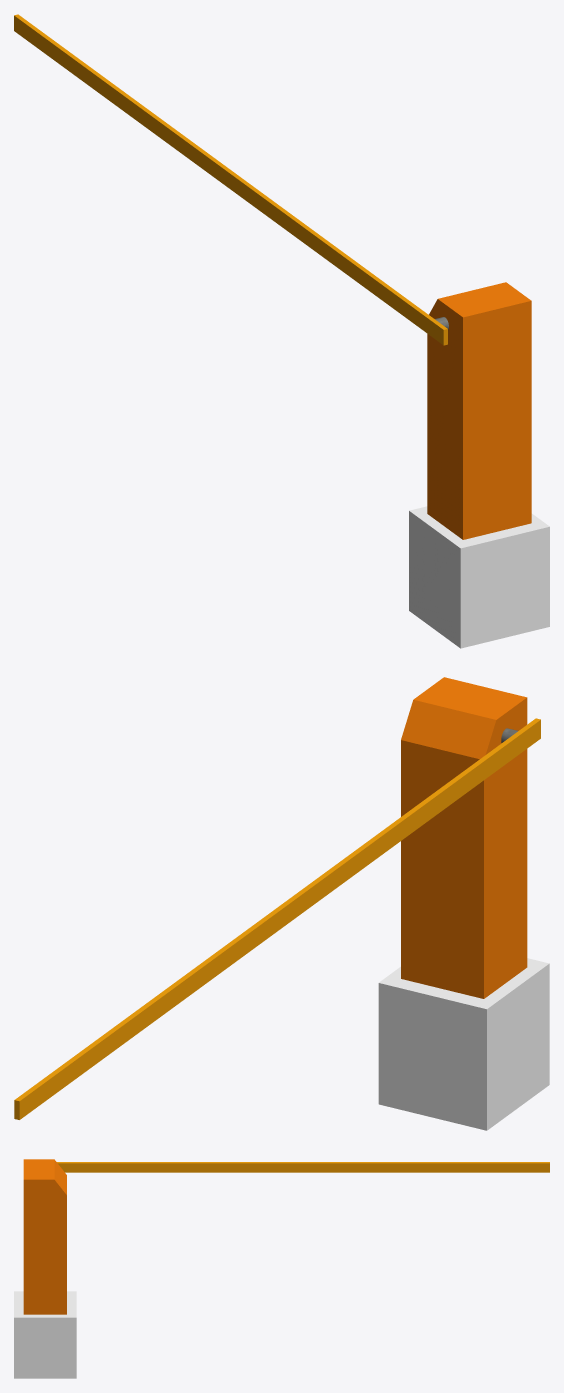
File: Cancela lado B.fbx
The picture shows the model from 3 angles, top to bottom: view 1: azimuth 30°, elevation 25°; view 2: azimuth 150°, elevation 25°; view 3: azimuth 270°, elevation 25°; orthographic projection. The views are drawn at different scales.
Parts seen in each view (by area): view 1: Componente_55_1, Componente_56_1; view 2: Componente_55_1, Componente_56_1; view 3: Componente_55_1, Componente_56_1.
Part boxes in pixels (box(x1,y1,x2,y2)): Componente_55_1: box(409, 282, 549, 648); Componente_56_1: box(14, 14, 447, 345); Componente_55_1: box(378, 677, 549, 1130); Componente_56_1: box(14, 718, 540, 1119); Componente_55_1: box(14, 1159, 76, 1378); Componente_56_1: box(57, 1162, 549, 1172).
Size of the model in its own units: 443 by 1450 by 3597.
